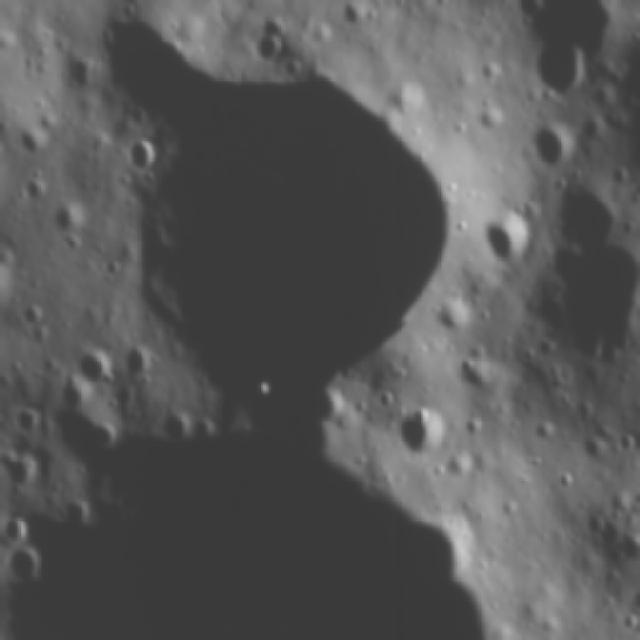crater: (104, 14, 487, 440), (540, 251, 637, 375), (516, 2, 615, 66), (550, 182, 621, 255), (48, 398, 120, 458), (528, 40, 588, 102), (479, 210, 532, 265), (395, 409, 448, 462), (526, 126, 576, 174), (71, 345, 120, 389), (2, 454, 40, 506), (118, 135, 162, 179), (5, 548, 46, 590), (62, 57, 103, 98), (50, 202, 90, 244), (248, 29, 294, 62), (448, 345, 483, 387), (431, 299, 466, 339), (156, 410, 192, 448), (58, 494, 94, 532), (612, 528, 640, 572), (122, 350, 158, 384), (576, 508, 610, 543), (14, 408, 48, 443), (14, 300, 46, 334), (15, 128, 48, 160), (19, 174, 46, 212), (2, 516, 30, 544)
